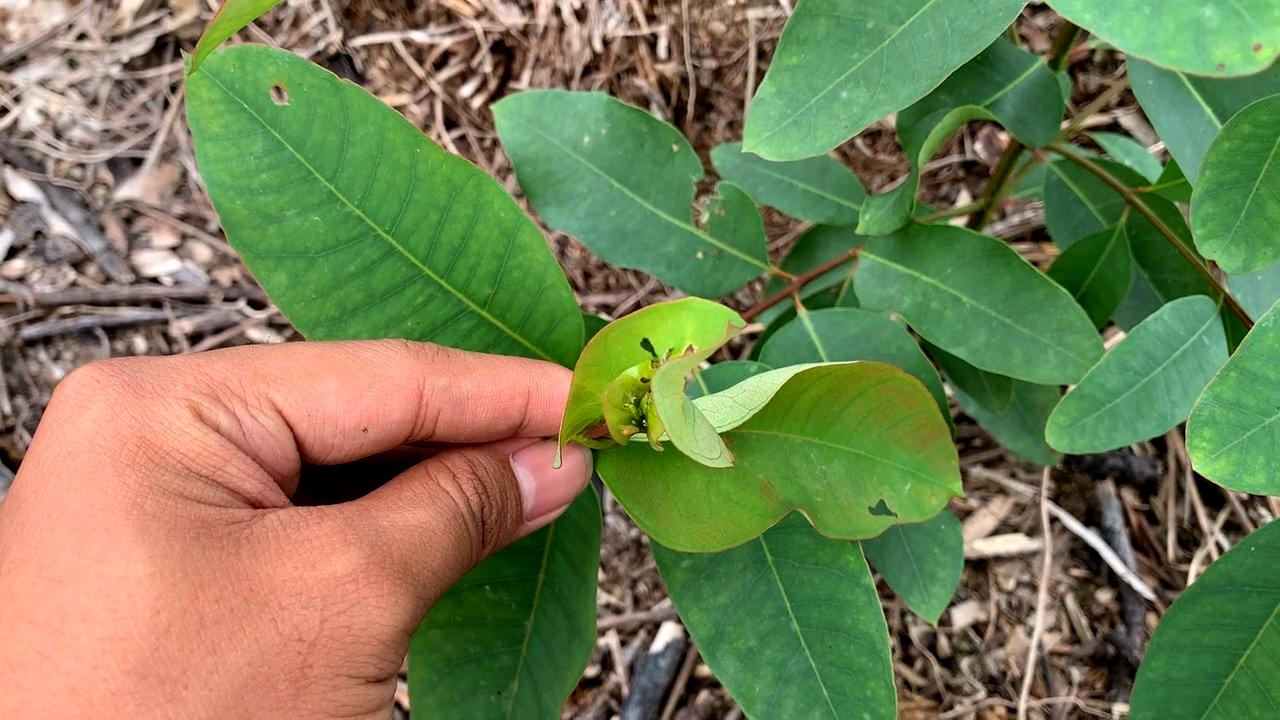Leaf Roller - Leaf: (555, 297, 747, 469)
